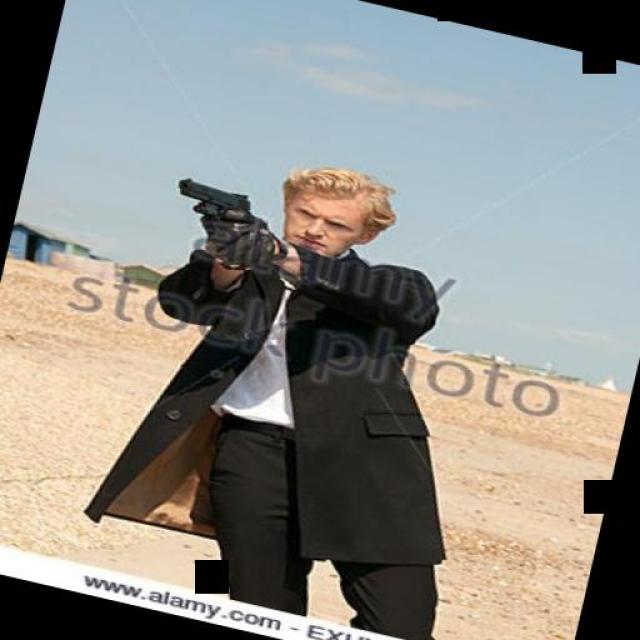gun: (169, 171, 260, 229)
